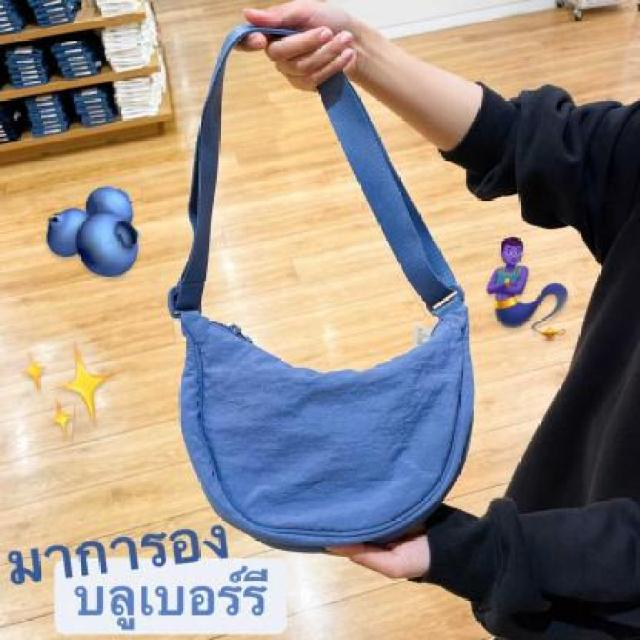Bag: (116, 15, 530, 576)
